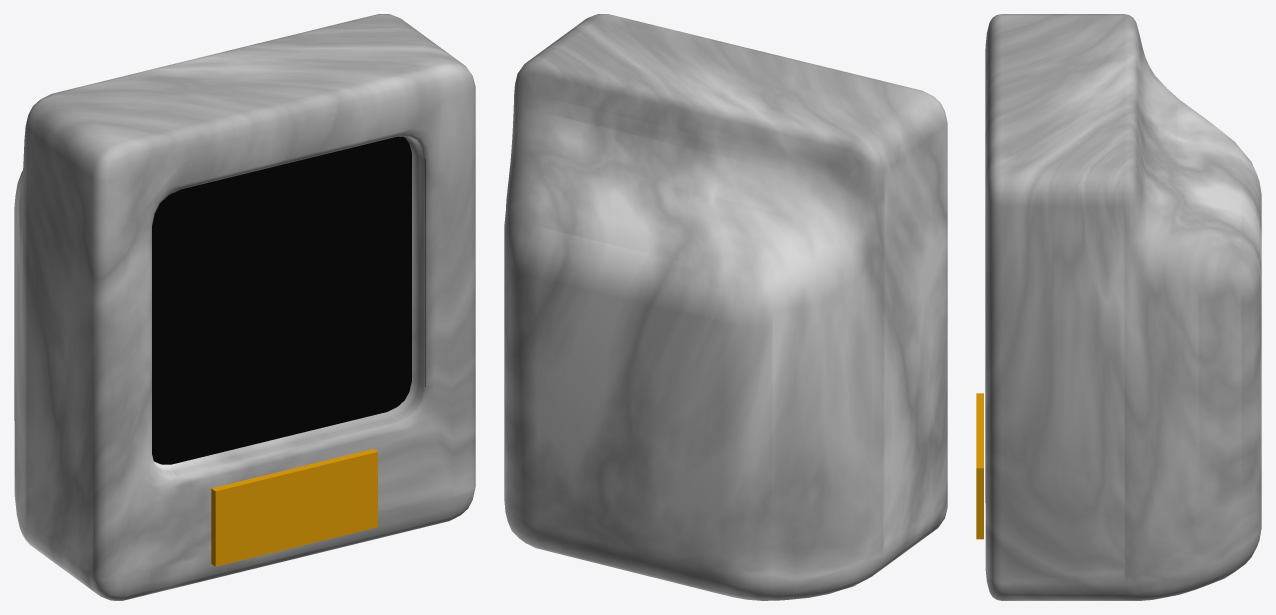
File: marble_computer.glb
3 renders of one model, left to right at view 1: azimuth 30°, elevation 25°; view 2: azimuth 150°, elevation 25°; view 3: azimuth 270°, elevation 25°, orthographic. The views are drawn at different scales.
Visible parts, largest first — view 1: display; view 2: display; view 3: display.
Boxes of the visible parts, x1,y1,x2,y2 form: display: (14,14,475,600); display: (504,14,947,600); display: (976,14,1261,600).
Bounding box in the file's own units: 7.46 × 8.53 × 5.1.
Materials: 3 (1 with a texture image).
